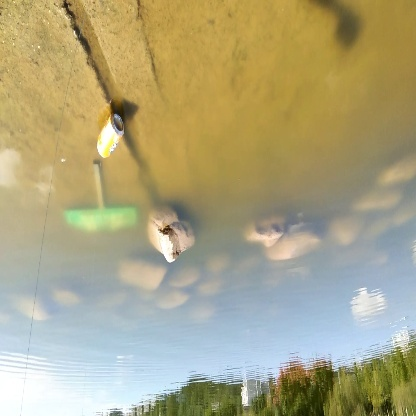bottle: (92, 109, 134, 170)
